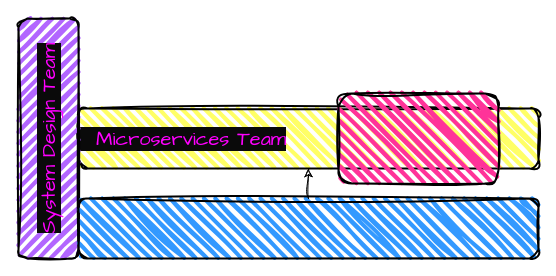
Some shapes in this 556 by 276 pixel diagram are drawn without their labels. The box of each missing label's shape, as (x1, y1, x2, y2) in pixels:
Platform Team: (77, 197, 539, 259)
Release Team: (337, 92, 499, 184)
